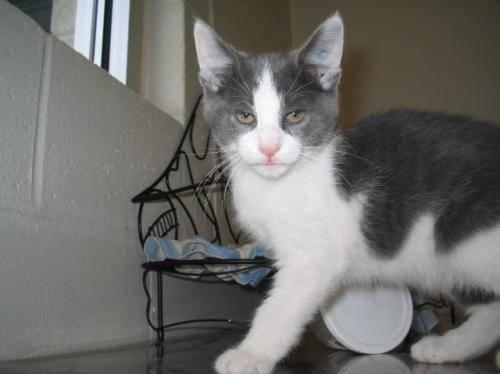cat: (194, 12, 499, 373)
